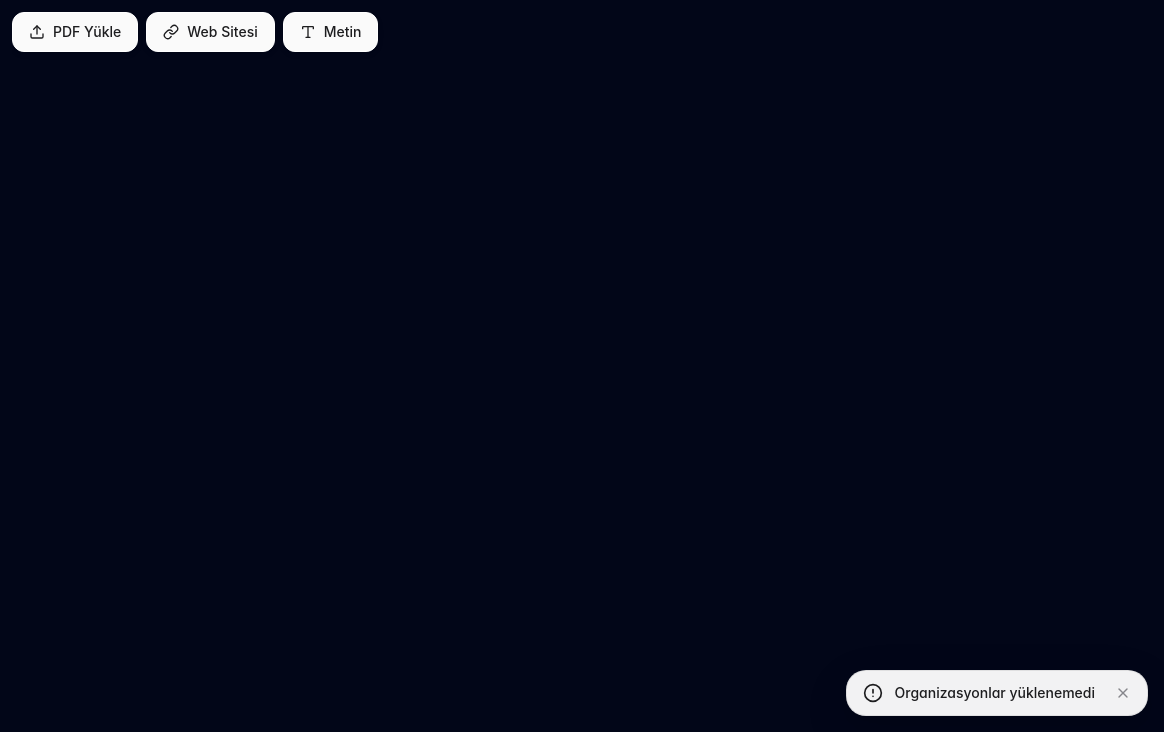
Scenario: SourceUploader › shows error toast when URL upload fails (unreachable)
Click the button "Web Sitesi" at (210, 32), box [146,12,275,52]
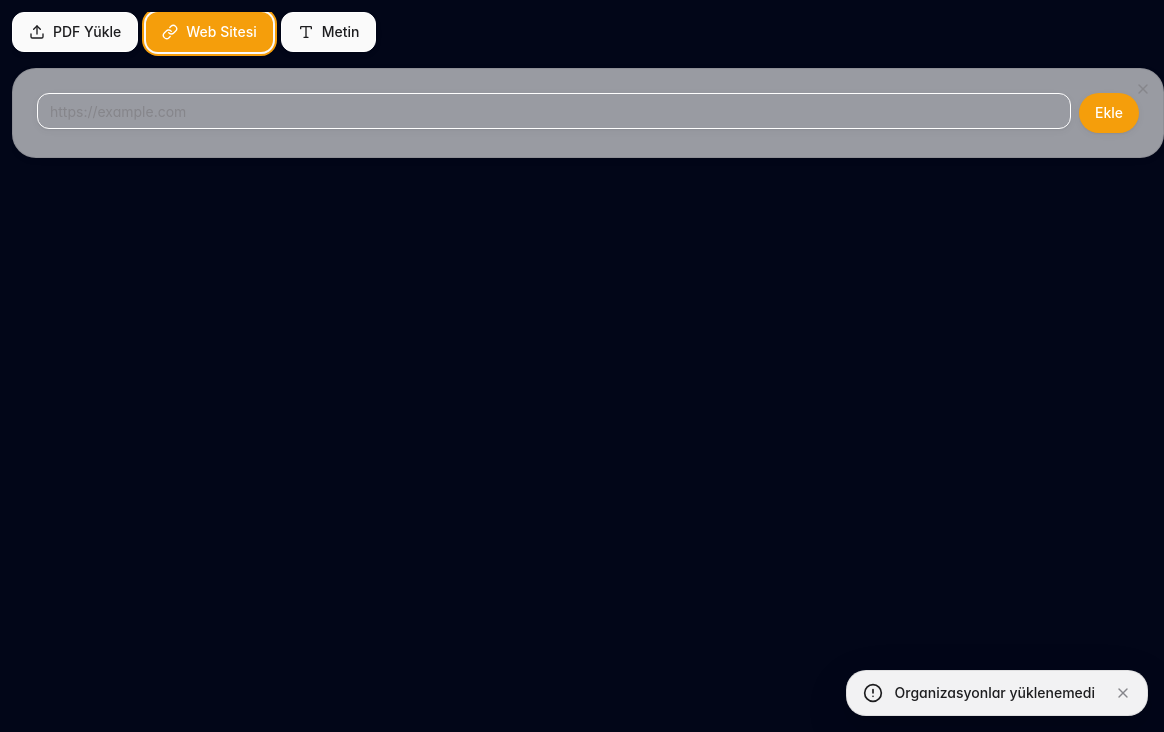
Type "https://bad.example.com" into the field with placeholder "https://example.com" at (554, 111), box [37,93,1071,129]
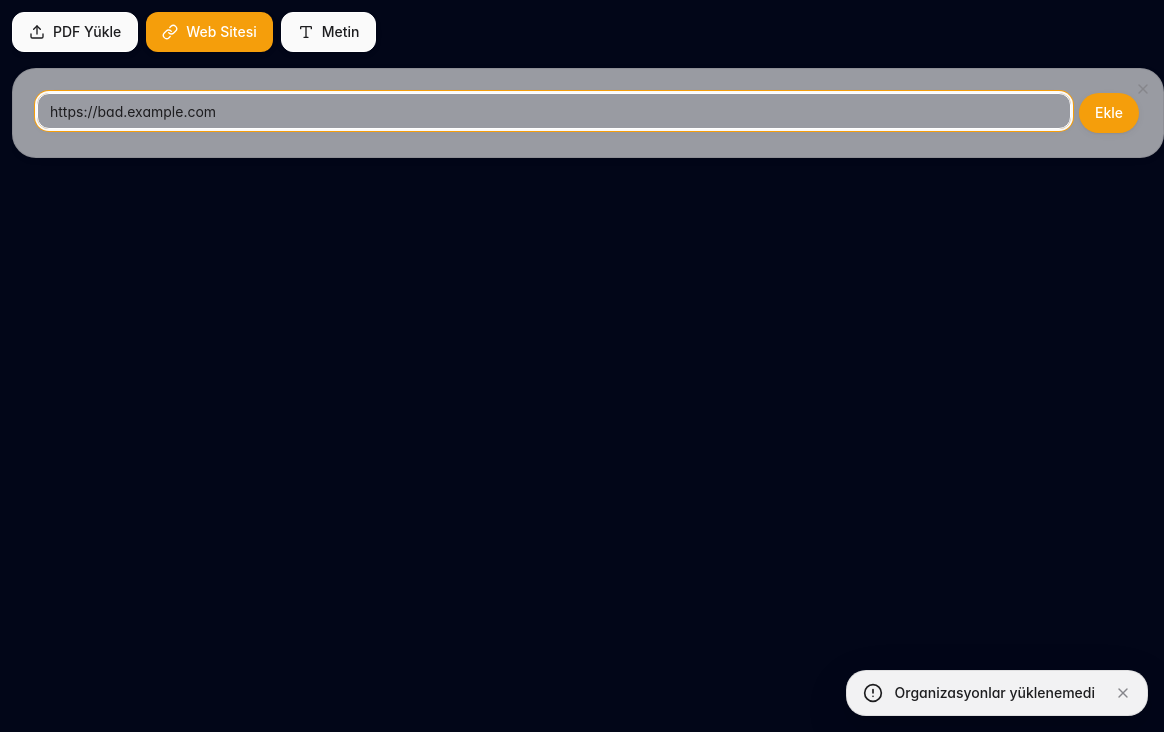
Click the button "Ekle" at (1109, 113), box [1079,93,1139,133]
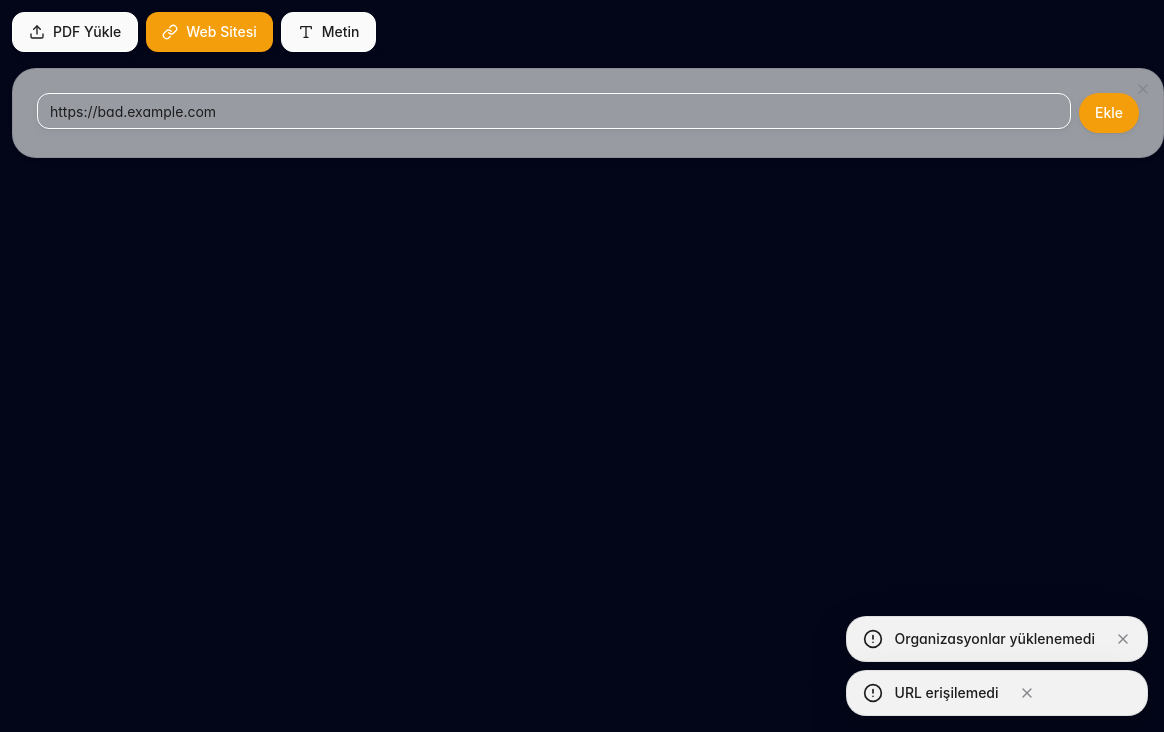
Now the text "URL erişilemedi" is shown, box [894,683,998,703]
